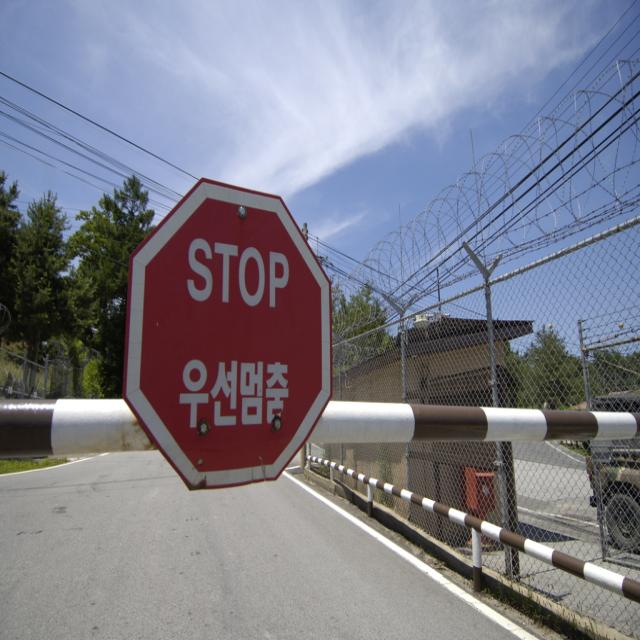Stop-sign: (120, 175, 334, 490)
